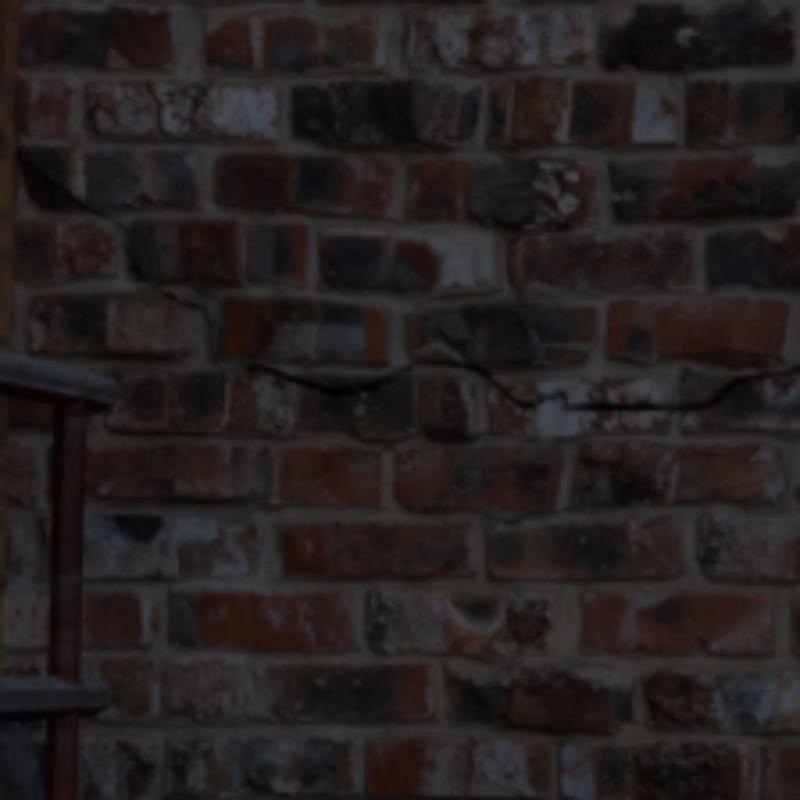crack: (218, 357, 796, 411), (14, 154, 121, 232), (121, 243, 207, 314), (143, 79, 171, 139), (461, 746, 475, 796)
